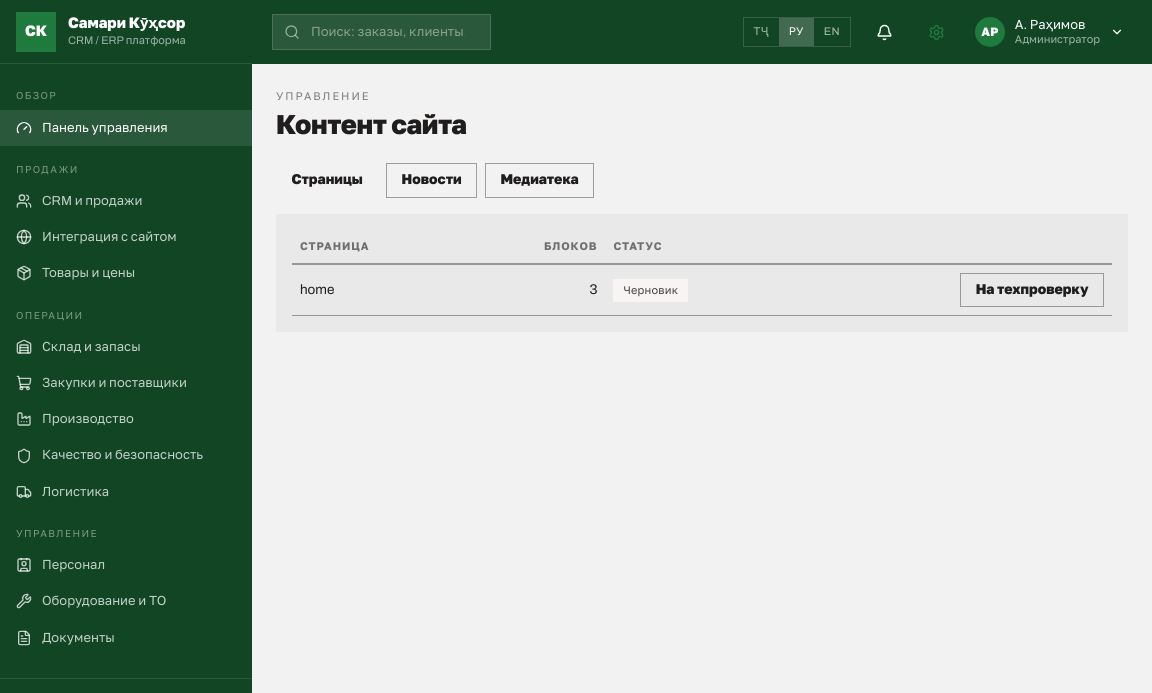
published content › leaves a draft page editable
Click the button "home" at (317, 291), box [300,280,334,301]
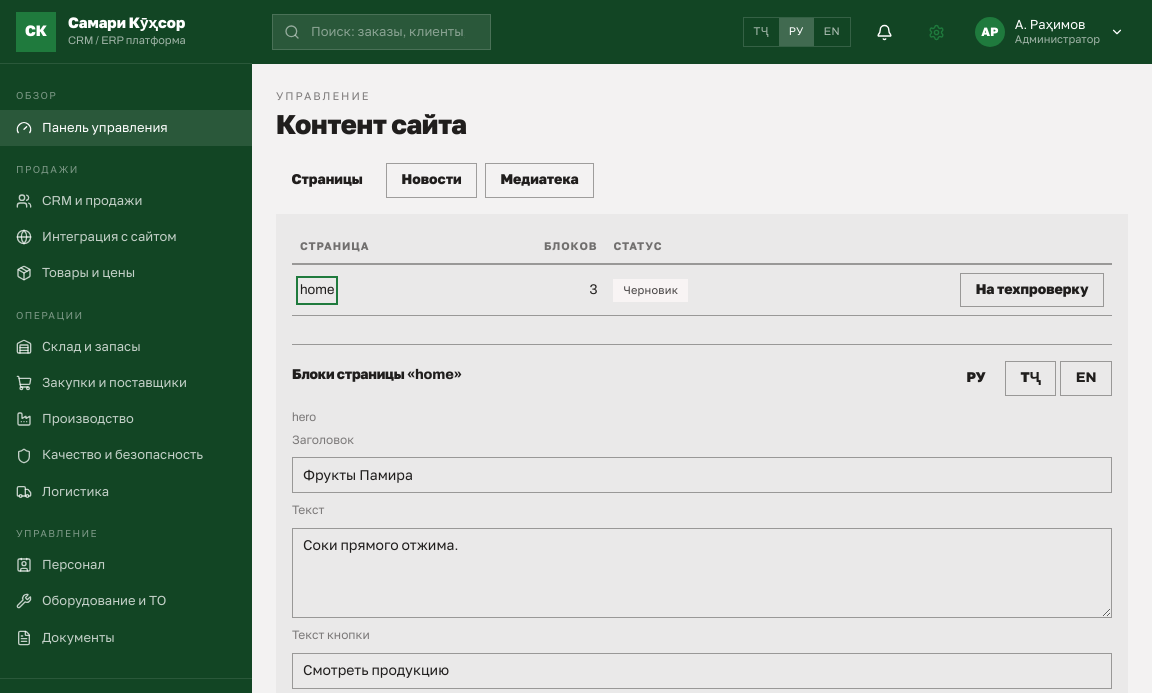
Now the field labelled "Заголовок" is enabled, box [292,457,1112,493]
